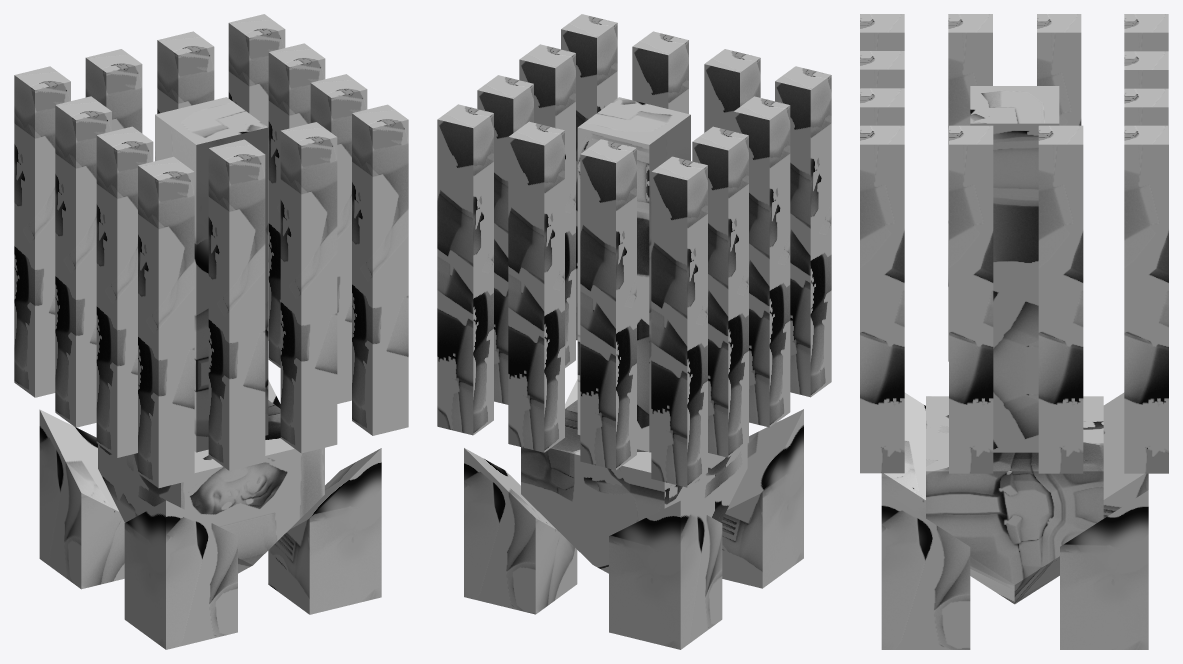
Rendered from Flag_capture.fbx.
3 views of the same model, side by side, from view 1: azimuth 30°, elevation 25°; view 2: azimuth 150°, elevation 25°; view 3: azimuth 270°, elevation 25° (orthographic). The views are drawn at different scales.
Visible parts, largest first — view 1: Difference1_002; view 2: Difference1_002; view 3: Difference1_002.
Boxes of the visible parts, x1=… form: Difference1_002: x1=14, y1=14, x2=408, y2=649; Difference1_002: x1=437, y1=14, x2=831, y2=649; Difference1_002: x1=860, y1=14, x2=1168, y2=649.
Bounding box in the file's own units: 692 × 1297 × 691.
